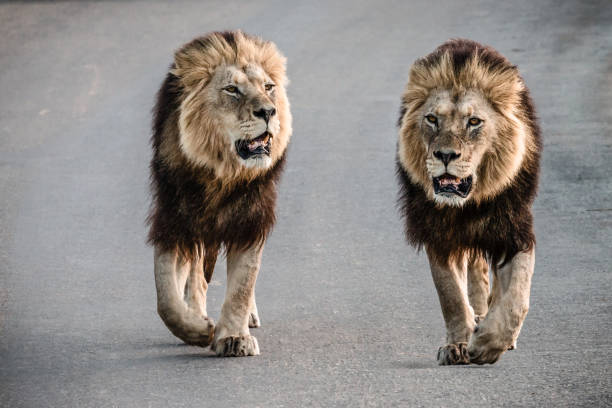lion: (375, 12, 577, 288), (127, 25, 305, 262)
